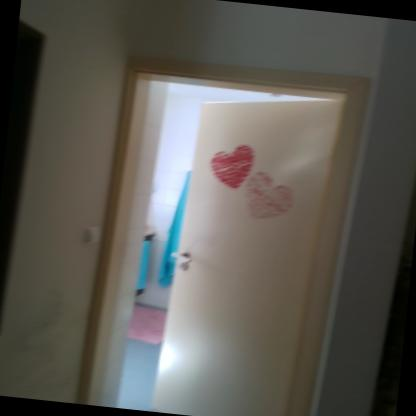semi: (60, 34, 393, 415)
